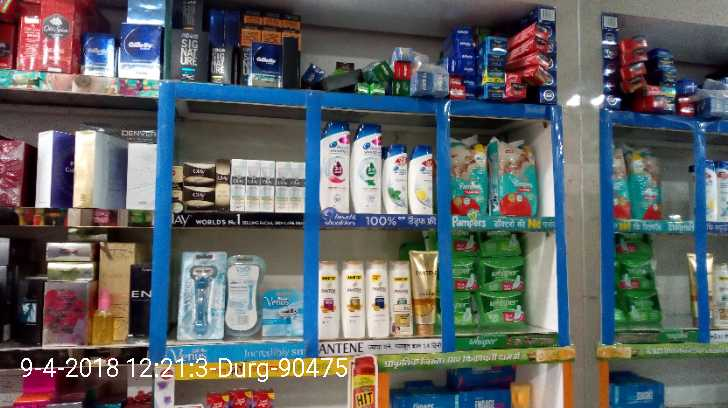gillete: (119, 22, 163, 75), (249, 42, 285, 86), (84, 32, 119, 75)
venus: (182, 252, 226, 337), (226, 252, 263, 337), (264, 289, 305, 339)
